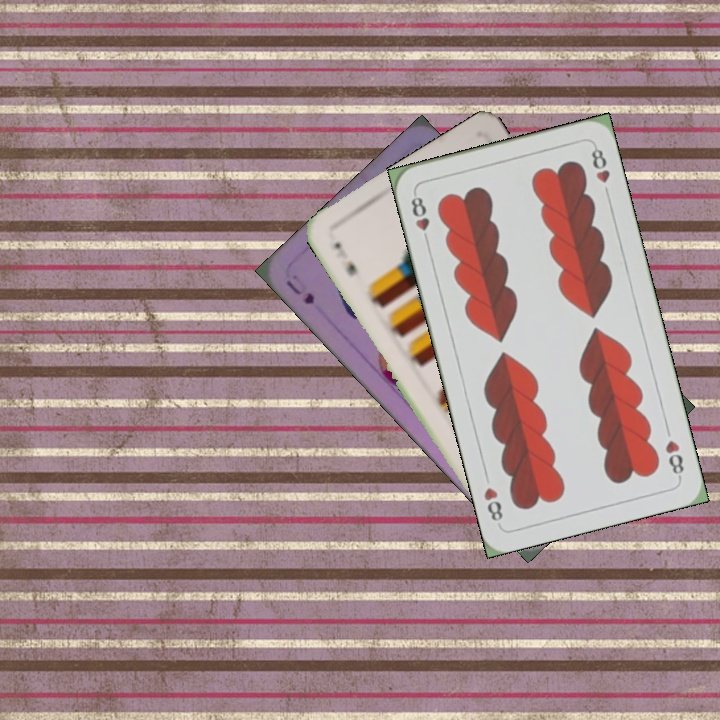E7: (329, 237, 360, 279)
H8: (407, 188, 432, 247), (661, 436, 687, 481)
SU: (282, 276, 318, 307)
